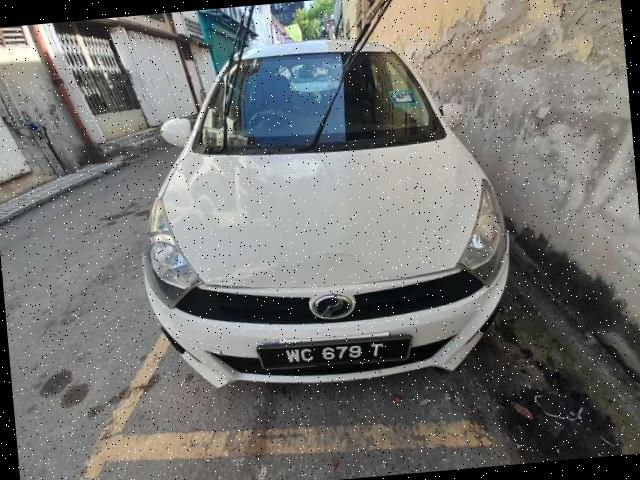License_Plate: (256, 331, 415, 375)
car: (124, 24, 522, 401)
